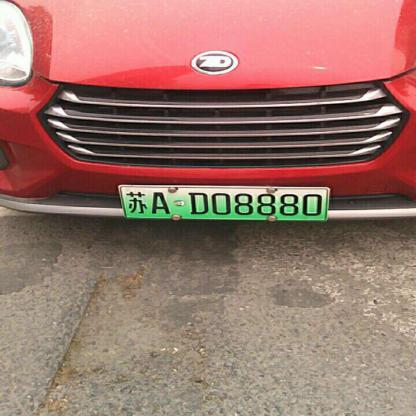lp: (120, 187, 327, 219)
